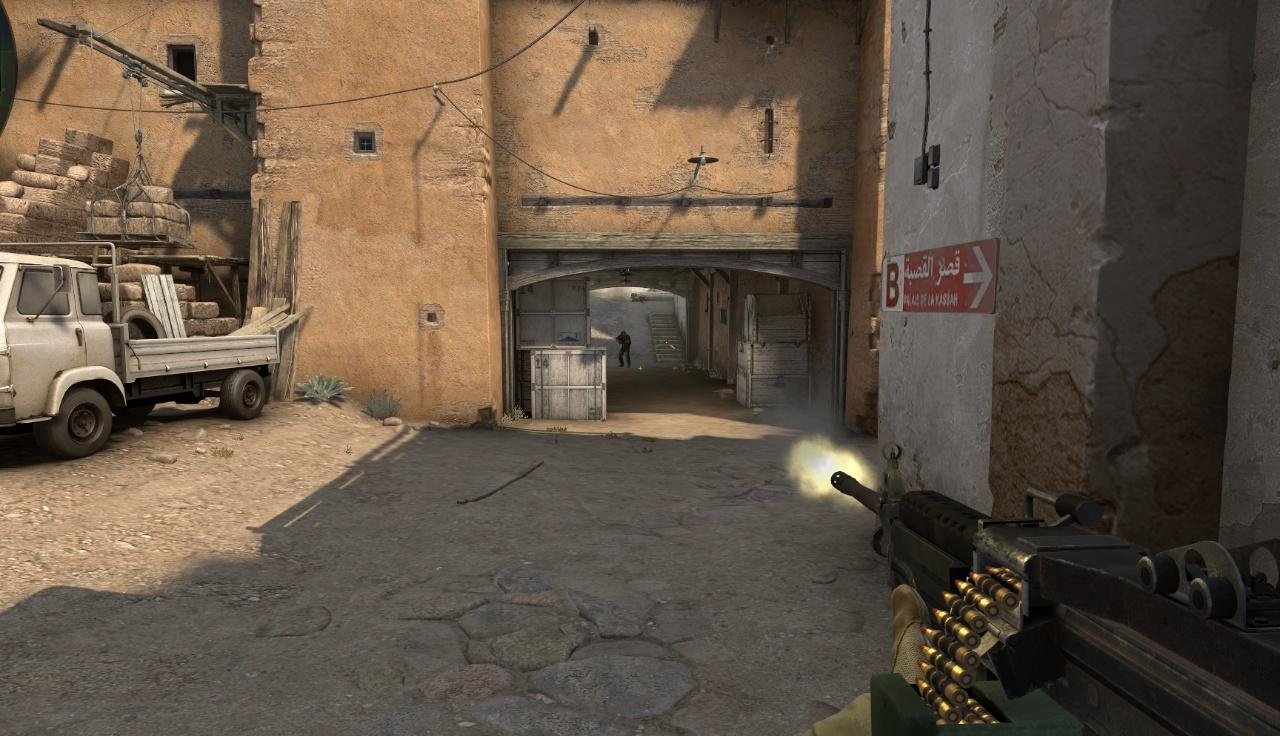rifle: (804, 442, 1280, 736)
tt: (616, 331, 631, 368)
tthead: (621, 331, 626, 337)
